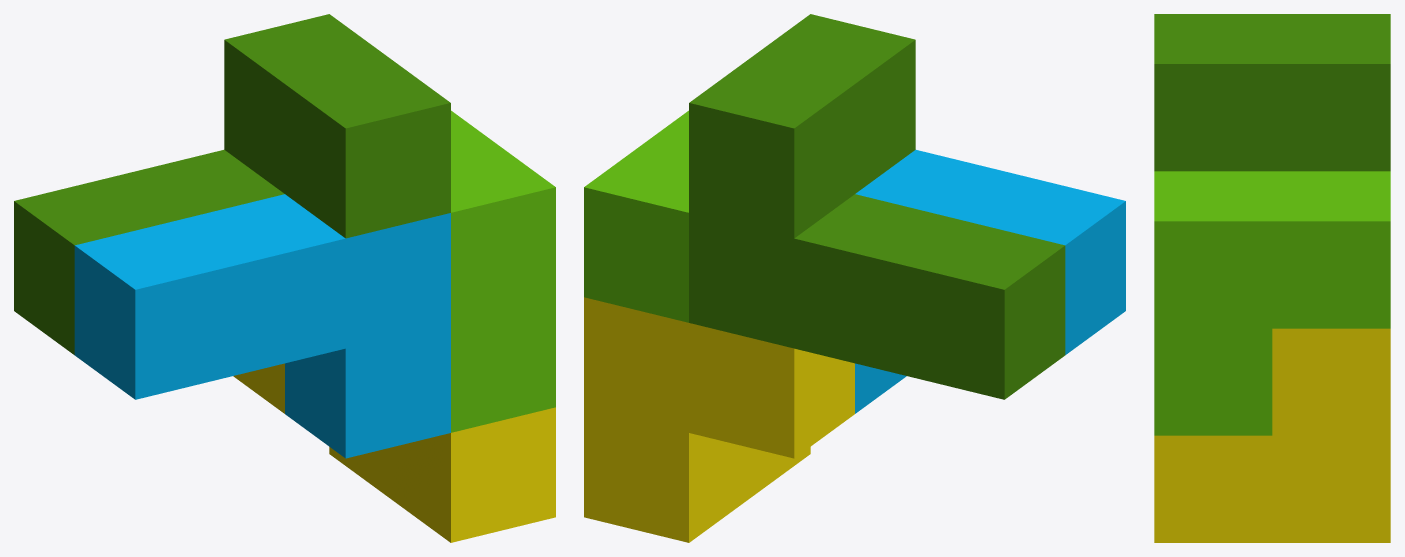
The picture shows the model from 3 angles, left to right: view 1: azimuth 30°, elevation 25°; view 2: azimuth 150°, elevation 25°; view 3: azimuth 270°, elevation 25°; orthographic projection. The views are drawn at different scales.
Parts seen in each view (by area): view 1: mergedBlocks(Clone); view 2: mergedBlocks(Clone); view 3: mergedBlocks(Clone).
Boxes of the visible parts, box(x1,y1,x2,y2) form: mergedBlocks(Clone): box(14, 14, 555, 542); mergedBlocks(Clone): box(584, 14, 1125, 542); mergedBlocks(Clone): box(1154, 14, 1390, 542).
Bounding box in the file's own units: 4 × 4 × 2.
4 materials, 4 textured.
